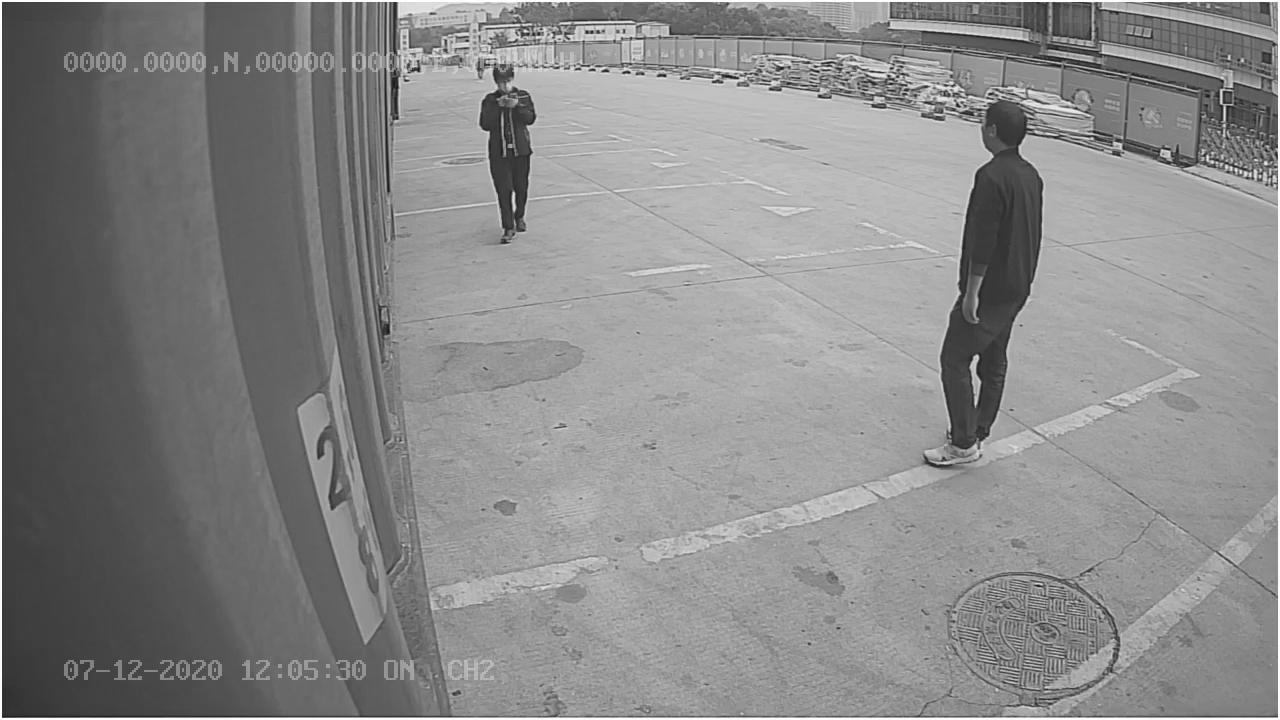person: (921, 100, 1047, 470)
